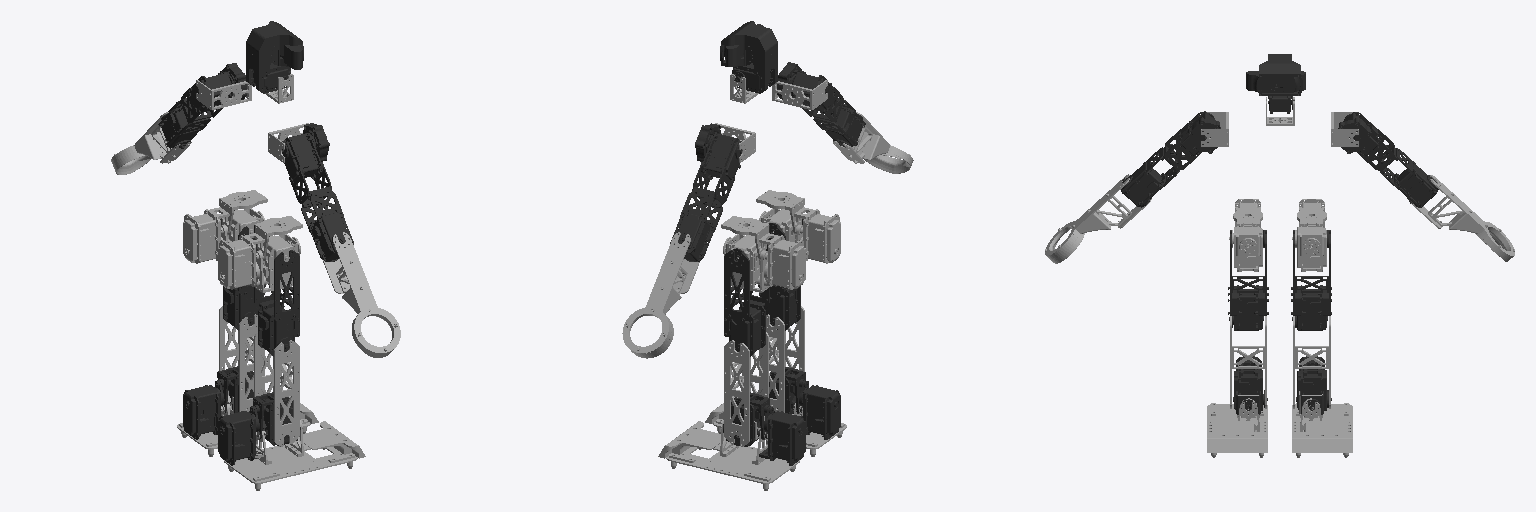
The robot description file, URDF, robot "UMARU":
<?xml version="1.0" ?>
<!-- =================================================================================== -->
<!-- |    This document was autogenerated by xacro from umaru.xacro                    | -->
<!-- |    EDITING THIS FILE BY HAND IS NOT RECOMMENDED                                 | -->
<!-- =================================================================================== -->
<robot name="UMARU">
  <material name="black">
    <color rgba="0.25 0.25 0.25 1"/>
  </material>
  <material name="light_gray">
    <color rgba="0.7 0.7 0.7 1"/>
  </material>
  <material name="green">
    <color rgba="0 1 0 1"/>
  </material>
  <link name="base_link"/>
  <link name="odom">
    <origion rpy="0 0 0" xyz="0 0 0"/>
  </link>
  <joint name="odom_joint" type="fixed">
    <parent link="base_link"/>
    <child link="odom"/>
    <origin rpy="0 0 0" xyz="0 0 0"/>
  </joint>
  <link name="body">
    <visual>
      <geometry>
        <mesh filename="package://shikaku_test/meshes/teen_size/Body.stl" scale="0.001 0.001 0.001"/>
      </geometry>
      <origin rpy="1.5707963267948966 0 0" xyz="0.0 0.0 0.0"/>
      <material name="black"/>
    </visual>
    <collision>
      <geometry>
        <mesh filename="package://shikaku_test/meshes/teen_size/Body.stl" scale="0.001 0.001 0.001"/>
      </geometry>
      <origin rpy="1.5707963267948966 0 0" xyz="0.0 0.0 0.0"/>
    </collision>
  </link>
  <joint name="body_joint" type="revolute">
    <parent link="odom"/>
    <child link="body"/>
    <origin rpy="0 0 0" xyz="0 0 0.55"/>
    <limit effort="1000" lower="0" upper="0" velocity="1"/>
  </joint>
  <link name="neck">
    <visual>
      <geometry>
        <mesh filename="package://shikaku_test/meshes/teen_size/Neck.stl" scale="0.001 0.001 0.001"/>
      </geometry>
      <origin rpy="1.5707963267948966 1.5707963267948966 0" xyz="0.0 -0.0184 -0.013000000000000001"/>
      <material name="light_gray"/>
    </visual>
    <collision>
      <geometry>
        <mesh filename="package://shikaku_test/meshes/teen_size/Neck.stl" scale="0.001 0.001 0.001"/>
      </geometry>
      <origin rpy="1.5707963267948966 1.5707963267948966 0" xyz="0.0 -0.0184 -0.013000000000000001"/>
    </collision>
  </link>
  <link name="head">
    <visual>
      <geometry>
        <mesh filename="package://shikaku_test/meshes/teen_size/Head.stl" scale="0.001 0.001 0.001"/>
      </geometry>
      <origin rpy="0 -1.5707963267948966 0" xyz="0.0 0.0 0.0"/>
      <material name="black"/>
    </visual>
    <collision>
      <geometry>
        <mesh filename="package://shikaku_test/meshes/teen_size/Head.stl" scale="0.001 0.001 0.001"/>
      </geometry>
      <origin rpy="0 -1.5707963267948966 0" xyz="0.0 0.0 0.0"/>
    </collision>
  </link>
  <link name="right_shoulder">
    <visual>
      <geometry>
        <mesh filename="package://shikaku_test/meshes/teen_size/Shoulder.stl" scale="0.001 0.001 0.001"/>
      </geometry>
      <origin rpy="0 1.5707963267948966 1.5707963267948966" xyz="0.0 0.0 0.0"/>
      <material name="light_gray"/>
    </visual>
    <collision>
      <geometry>
        <mesh filename="package://shikaku_test/meshes/teen_size/Shoulder.stl" scale="0.001 0.001 0.001"/>
      </geometry>
      <origin rpy="0 1.5707963267948966 1.5707963267948966" xyz="0.0 0.0 0.0"/>
    </collision>
  </link>
  <link name="right_upper_arm">
    <visual>
      <geometry>
        <mesh filename="package://shikaku_test/meshes/teen_size/Upper_Arm.stl" scale="0.001 0.001 0.001"/>
      </geometry>
      <origin rpy="0 1.5707963267948966 0" xyz="0.0 0.034999999999999996 0.006"/>
      <material name="black"/>
    </visual>
    <collision>
      <geometry>
        <mesh filename="package://shikaku_test/meshes/teen_size/Upper_Arm.stl" scale="0.001 0.001 0.001"/>
      </geometry>
      <origin rpy="0 1.5707963267948966 0" xyz="0.0 0.034999999999999996 0.006"/>
    </collision>
  </link>
  <link name="right_forearm">
    <visual>
      <geometry>
        <mesh filename="package://shikaku_test/meshes/teen_size/Forearm.stl" scale="0.001 0.001 0.001"/>
      </geometry>
      <origin rpy="0 1.5707963267948966 1.5707963267948966" xyz="-0.034999999999999996 0.006 0.16000000000000003"/>
      <material name="light_gray"/>
    </visual>
    <collision>
      <geometry>
        <mesh filename="package://shikaku_test/meshes/teen_size/Forearm.stl" scale="0.001 0.001 0.001"/>
      </geometry>
      <origin rpy="0 1.5707963267948966 1.5707963267948966" xyz="-0.034999999999999996 0.006 0.16000000000000003"/>
    </collision>
  </link>
  <link name="left_shoulder">
    <visual>
      <geometry>
        <mesh filename="package://shikaku_test/meshes/teen_size/Shoulder.stl" scale="0.001 0.001 0.001"/>
      </geometry>
      <origin rpy="0 1.5707963267948966 1.5707963267948966" xyz="0.0 0.0 0.0"/>
      <material name="light_gray"/>
    </visual>
    <collision>
      <geometry>
        <mesh filename="package://shikaku_test/meshes/teen_size/Shoulder.stl" scale="0.001 0.001 0.001"/>
      </geometry>
      <origin rpy="0 1.5707963267948966 1.5707963267948966" xyz="0.0 0.0 0.0"/>
    </collision>
  </link>
  <link name="left_upper_arm">
    <visual>
      <geometry>
        <mesh filename="package://shikaku_test/meshes/teen_size/Upper_Arm.stl" scale="0.001 0.001 0.001"/>
      </geometry>
      <origin rpy="0 1.5707963267948966 0" xyz="0.0 0.034999999999999996 0.006"/>
      <material name="black"/>
    </visual>
    <collision>
      <geometry>
        <mesh filename="package://shikaku_test/meshes/teen_size/Upper_Arm.stl" scale="0.001 0.001 0.001"/>
      </geometry>
      <origin rpy="0 1.5707963267948966 0" xyz="0.0 0.034999999999999996 0.006"/>
    </collision>
  </link>
  <link name="left_forearm">
    <visual>
      <geometry>
        <mesh filename="package://shikaku_test/meshes/teen_size/Forearm.stl" scale="0.001 0.001 0.001"/>
      </geometry>
      <origin rpy="0 1.5707963267948966 1.5707963267948966" xyz="-0.034999999999999996 0.006 0.16000000000000003"/>
      <material name="light_gray"/>
    </visual>
    <collision>
      <geometry>
        <mesh filename="package://shikaku_test/meshes/teen_size/Forearm.stl" scale="0.001 0.001 0.001"/>
      </geometry>
      <origin rpy="0 1.5707963267948966 1.5707963267948966" xyz="-0.034999999999999996 0.006 0.16000000000000003"/>
    </collision>
  </link>
  <link name="right_groin">
    <visual>
      <geometry>
        <mesh filename="package://shikaku_test/meshes/teen_size/Groin.stl" scale="0.001 0.001 0.001"/>
      </geometry>
      <origin rpy="-1.5707963267948966 -1.5707963267948966 0" xyz="-0.083 -0.047 -0.010000000000000002"/>
      <material name="light_gray"/>
    </visual>
    <collision>
      <geometry>
        <mesh filename="package://shikaku_test/meshes/teen_size/Groin.stl" scale="0.001 0.001 0.001"/>
      </geometry>
      <origin rpy="-1.5707963267948966 -1.5707963267948966 0" xyz="-0.083 -0.047 -0.010000000000000002"/>
    </collision>
  </link>
  <link name="right_buttock">
    <visual>
      <geometry>
        <mesh filename="package://shikaku_test/meshes/teen_size/Buttock.stl" scale="0.001 0.001 0.001"/>
      </geometry>
      <origin rpy="-1.5707963267948966 0 0" xyz="-0.036 -0.047 0.046000000000000006"/>
      <material name="light_gray"/>
    </visual>
    <collision>
      <geometry>
        <mesh filename="package://shikaku_test/meshes/teen_size/Buttock.stl" scale="0.001 0.001 0.001"/>
      </geometry>
      <origin rpy="-1.5707963267948966 0 0" xyz="-0.036 -0.047 0.046000000000000006"/>
    </collision>
  </link>
  <link name="right_thigh">
    <visual>
      <geometry>
        <mesh filename="package://shikaku_test/meshes/teen_size/Thigh.stl" scale="0.001 0.001 0.001"/>
      </geometry>
      <origin rpy="-1.5707963267948966 0 0" xyz="0.0 0.008 -0.034999999999999996"/>
      <material name="black"/>
    </visual>
    <collision>
      <geometry>
        <mesh filename="package://shikaku_test/meshes/teen_size/Thigh.stl" scale="0.001 0.001 0.001"/>
      </geometry>
      <origin rpy="-1.5707963267948966 0 0" xyz="0.0 0.008 -0.034999999999999996"/>
    </collision>
  </link>
  <link name="right_calf">
    <visual>
      <geometry>
        <mesh filename="package://shikaku_test/meshes/teen_size/Calf.stl" scale="0.001 0.001 0.001"/>
      </geometry>
      <origin rpy="0 -1.5707963267948966 0" xyz="0.026400000000000003 0.014000000000000002 0.038000000000000006"/>
      <material name="light_gray"/>
    </visual>
    <collision>
      <geometry>
        <mesh filename="package://shikaku_test/meshes/teen_size/Calf.stl" scale="0.001 0.001 0.001"/>
      </geometry>
      <origin rpy="0 -1.5707963267948966 0" xyz="0.026400000000000003 0.014000000000000002 0.038000000000000006"/>
    </collision>
  </link>
  <link name="right_heel">
    <visual>
      <geometry>
        <mesh filename="package://shikaku_test/meshes/teen_size/Heel.stl" scale="0.001 0.001 0.001"/>
      </geometry>
      <origin rpy="1.5707963267948966 0 1.5707963267948966" xyz="-0.0478 -0.0104 -0.0456"/>
      <material name="black"/>
    </visual>
    <collision>
      <geometry>
        <mesh filename="package://shikaku_test/meshes/teen_size/Heel.stl" scale="0.001 0.001 0.001"/>
      </geometry>
      <origin rpy="1.5707963267948966 0 1.5707963267948966" xyz="-0.0478 -0.0104 -0.0456"/>
    </collision>
  </link>
  <link name="right_foot">
    <visual>
      <geometry>
        <mesh filename="package://shikaku_test/meshes/teen_size/Right_Foot.stl" scale="0.001 0.001 0.001"/>
      </geometry>
      <origin rpy="1.5707963267948966 0 3.141592653589793" xyz="0.010000000000000002 -0.0478 -0.0456"/>
      <material name="light_gray"/>
    </visual>
    <collision>
      <geometry>
        <mesh filename="package://shikaku_test/meshes/teen_size/Right_Foot.stl" scale="0.001 0.001 0.001"/>
      </geometry>
      <origin rpy="1.5707963267948966 0 3.141592653589793" xyz="0.010000000000000002 -0.0478 -0.0456"/>
    </collision>
  </link>
  <link name="left_groin">
    <visual>
      <geometry>
        <mesh filename="package://shikaku_test/meshes/teen_size/Groin.stl" scale="0.001 0.001 0.001"/>
      </geometry>
      <origin rpy="-1.5707963267948966 -1.5707963267948966 0" xyz="-0.083 -0.047 -0.010000000000000002"/>
      <material name="light_gray"/>
    </visual>
    <collision>
      <geometry>
        <mesh filename="package://shikaku_test/meshes/teen_size/Groin.stl" scale="0.001 0.001 0.001"/>
      </geometry>
      <origin rpy="-1.5707963267948966 -1.5707963267948966 0" xyz="-0.083 -0.047 -0.010000000000000002"/>
    </collision>
  </link>
  <link name="left_buttock">
    <visual>
      <geometry>
        <mesh filename="package://shikaku_test/meshes/teen_size/Buttock.stl" scale="0.001 0.001 0.001"/>
      </geometry>
      <origin rpy="-1.5707963267948966 0 0" xyz="-0.036 -0.047 0.046000000000000006"/>
      <material name="light_gray"/>
    </visual>
    <collision>
      <geometry>
        <mesh filename="package://shikaku_test/meshes/teen_size/Buttock.stl" scale="0.001 0.001 0.001"/>
      </geometry>
      <origin rpy="-1.5707963267948966 0 0" xyz="-0.036 -0.047 0.046000000000000006"/>
    </collision>
  </link>
  <link name="left_thigh">
    <visual>
      <geometry>
        <mesh filename="package://shikaku_test/meshes/teen_size/Thigh.stl" scale="0.001 0.001 0.001"/>
      </geometry>
      <origin rpy="-1.5707963267948966 0 3.141592653589793" xyz="0.0 -0.008 -0.034999999999999996"/>
      <material name="black"/>
    </visual>
    <collision>
      <geometry>
        <mesh filename="package://shikaku_test/meshes/teen_size/Thigh.stl" scale="0.001 0.001 0.001"/>
      </geometry>
      <origin rpy="-1.5707963267948966 0 3.141592653589793" xyz="0.0 -0.008 -0.034999999999999996"/>
    </collision>
  </link>
  <link name="left_calf">
    <visual>
      <geometry>
        <mesh filename="package://shikaku_test/meshes/teen_size/Calf.stl" scale="0.001 0.001 0.001"/>
      </geometry>
      <origin rpy="0 -1.5707963267948966 3.141592653589793" xyz="-0.026400000000000003 -0.014000000000000002 0.038000000000000006"/>
      <material name="light_gray"/>
    </visual>
    <collision>
      <geometry>
        <mesh filename="package://shikaku_test/meshes/teen_size/Calf.stl" scale="0.001 0.001 0.001"/>
      </geometry>
      <origin rpy="0 -1.5707963267948966 3.141592653589793" xyz="-0.026400000000000003 -0.014000000000000002 0.038000000000000006"/>
    </collision>
  </link>
  <link name="left_heel">
    <visual>
      <geometry>
        <mesh filename="package://shikaku_test/meshes/teen_size/Heel.stl" scale="0.001 0.001 0.001"/>
      </geometry>
      <origin rpy="1.5707963267948966 0 -1.5707963267948966" xyz="0.0478 0.0104 -0.0456"/>
      <material name="black"/>
    </visual>
    <collision>
      <geometry>
        <mesh filename="package://shikaku_test/meshes/teen_size/Heel.stl" scale="0.001 0.001 0.001"/>
      </geometry>
      <origin rpy="1.5707963267948966 0 -1.5707963267948966" xyz="0.0478 0.0104 -0.0456"/>
    </collision>
  </link>
  <link name="left_foot">
    <visual>
      <geometry>
        <mesh filename="package://shikaku_test/meshes/teen_size/Left_Foot.stl" scale="0.001 0.001 0.001"/>
      </geometry>
      <origin rpy="1.5707963267948966 0 3.141592653589793" xyz="0.010000000000000002 0.0478 -0.0456"/>
      <material name="light_gray"/>
    </visual>
    <collision>
      <geometry>
        <mesh filename="package://shikaku_test/meshes/teen_size/Left_Foot.stl" scale="0.001 0.001 0.001"/>
      </geometry>
      <origin rpy="1.5707963267948966 0 3.141592653589793" xyz="0.010000000000000002 0.0478 -0.0456"/>
    </collision>
  </link>
  <joint name="right_shoulder_pitch" type="revolute">
    <parent link="body"/>
    <child link="right_shoulder"/>
    <origin rpy="0 0 -1.5707963267948966" xyz="-0.0478 -0.0842 0.015"/>
    <limit effort="1000" lower="-3.141592653589793" upper="3.141592653589793" velocity="1"/>
  </joint>
  <joint name="left_shoulder_pitch" type="revolute">
    <parent link="body"/>
    <child link="left_shoulder"/>
    <origin rpy="0 0 1.5707963267948966" xyz="-0.0478 0.0842 0.015"/>
    <limit effort="1000" lower="-3.141592653589793" upper="3.141592653589793" velocity="1"/>
  </joint>
  <joint name="right_shoulder_roll" type="revolute">
    <parent link="right_shoulder"/>
    <child link="right_upper_arm"/>
    <origin rpy="-0.7853981633974483 0 1.5707963267948966" xyz="0.03 0.0 0.0"/>
    <limit effort="1000" lower="-2.356194490192345" upper="0.7853981633974483" velocity="1"/>
  </joint>
  <joint name="left_shoulder_roll" type="revolute">
    <parent link="left_shoulder"/>
    <child link="left_upper_arm"/>
    <origin rpy="0.7853981633974483 0 -1.5707963267948966" xyz="0.03 0.0 0.0"/>
    <limit effort="1000" lower="-0.7853981633974483" upper="2.356194490192345" velocity="1"/>
  </joint>
  <joint name="right_elbow" type="revolute">
    <parent link="right_upper_arm"/>
    <child link="right_forearm"/>
    <origin rpy="0 0 -1.5707963267948966" xyz="-0.006500000000000001 0.0 -0.15500000000000003"/>
    <limit effort="1000" lower="-2.356194490192345" upper="2.356194490192345" velocity="1"/>
  </joint>
  <joint name="left_elbow" type="revolute">
    <parent link="left_upper_arm"/>
    <child link="left_forearm"/>
    <origin rpy="0 0 1.5707963267948966" xyz="-0.006500000000000001 0.0 -0.15500000000000003"/>
    <limit effort="1000" lower="-2.356194490192345" upper="2.356194490192345" velocity="1"/>
  </joint>
  <joint name="right_hip_yaw" type="revolute">
    <parent link="body"/>
    <child link="right_groin"/>
    <origin rpy="0 -1.5707963267948966 0" xyz="-0.0476 -0.0495 -0.136"/>
    <limit effort="1000" lower="-1.5707963267948966" upper="0.7853981633974483" velocity="1"/>
  </joint>
  <joint name="left_hip_yaw" type="revolute">
    <parent link="body"/>
    <child link="left_groin"/>
    <origin rpy="0 -1.5707963267948966 0" xyz="-0.0476 0.0495 -0.136"/>
    <limit effort="1000" lower="-0.7853981633974483" upper="1.5707963267948966" velocity="1"/>
  </joint>
  <joint name="right_hip_roll" type="revolute">
    <parent link="right_groin"/>
    <child link="right_buttock"/>
    <origin rpy="0 -1.5707963267948966 0" xyz="-0.037 0.0 0.027000000000000003"/>
    <limit effort="1000" lower="-0.7853981633974483" upper="1.5707963267948966" velocity="1"/>
  </joint>
  <joint name="left_hip_roll" type="revolute">
    <parent link="left_groin"/>
    <child link="left_buttock"/>
    <origin rpy="0 -1.5707963267948966 0" xyz="-0.037 0.0 0.027000000000000003"/>
    <limit effort="1000" lower="-1.5707963267948966" upper="0.7853981633974483" velocity="1"/>
  </joint>
  <joint name="right_hip_pitch" type="revolute">
    <parent link="right_buttock"/>
    <child link="right_thigh"/>
    <origin rpy="0 0 1.5707963267948966" xyz="-0.025500000000000002 0.0 0.0005"/>
    <limit effort="1000" lower="-1.9634954084936207" upper="1.1780972450961724" velocity="1"/>
  </joint>
  <joint name="left_hip_pitch" type="revolute">
    <parent link="left_buttock"/>
    <child link="left_thigh"/>
    <origin rpy="0 0 -1.5707963267948966" xyz="-0.025500000000000002 0.0 0.0005"/>
    <limit effort="1000" lower="-1.1780972450961724" upper="1.9634954084936207" velocity="1"/>
  </joint>
  <joint name="right_knee" type="revolute">
    <parent link="right_thigh"/>
    <child link="right_calf"/>
    <origin rpy="0 0 0" xyz="0.0 0.0 0.13799999999999998"/>
    <limit effort="1000" lower="-2.356194490192345" upper="2.356194490192345" velocity="1"/>
  </joint>
  <joint name="left_knee" type="revolute">
    <parent link="left_thigh"/>
    <child link="left_calf"/>
    <origin rpy="0 0 0" xyz="0.0 0.0 0.13799999999999998"/>
    <limit effort="1000" lower="-0.7853981633974483" upper="0.7853981633974483" velocity="1"/>
  </joint>
  <joint name="right_ankle_pitch" type="revolute">
    <parent link="right_calf"/>
    <child link="right_heel"/>
    <origin rpy="0 0 3.141592653589793" xyz="0.0 0.0 0.13799999999999998"/>
    <limit effort="1000" lower="-0.7853981633974483" upper="0.7853981633974483" velocity="1"/>
  </joint>
  <joint name="left_ankle_pitch" type="revolute">
    <parent link="left_calf"/>
    <child link="left_heel"/>
    <origin rpy="0 0 3.141592653589793" xyz="0.0 0.0 0.13799999999999998"/>
    <limit effort="1000" lower="-2.356194490192345" upper="2.356194490192345" velocity="1"/>
  </joint>
  <joint name="right_ankle_roll" type="revolute">
    <parent link="right_heel"/>
    <child link="right_foot"/>
    <origin rpy="0 0 -1.5707963267948966" xyz="0.0 0.0 0.0"/>
    <limit effort="1000" lower="-0.7853981633974483" upper="0.7853981633974483" velocity="1"/>
  </joint>
  <joint name="left_ankle_roll" type="revolute">
    <parent link="left_heel"/>
    <child link="left_foot"/>
    <origin rpy="0 0 1.5707963267948966" xyz="0.0 0.0 0.0"/>
    <limit effort="1000" lower="-0.7853981633974483" upper="0.7853981633974483" velocity="1"/>
  </joint>
  <joint name="neck_yaw" type="revolute">
    <parent link="body"/>
    <child link="neck"/>
    <origin rpy="0 -1.5707963267948966 0" xyz="-0.0184 0.0 0.04000000000000001"/>
    <limit effort="1000" lower="-3.141592653589793" upper="3.141592653589793" velocity="1"/>
  </joint>
  <joint name="neck_pitch" type="revolute">
    <parent link="neck"/>
    <child link="head"/>
    <origin rpy="1.5707963267948966 3.141592653589793 1.5707963267948966" xyz="0.034999999999999996 0.0 0.0"/>
    <limit effort="1000" lower="-1.5707963267948966" upper="0.39269908169872414" velocity="1"/>
  </joint>
  <link name="camera">
    <origion rpy="0 0 0" xyz="0 0 0"/>
  </link>
  <joint name="camera_joint" type="revolute">
    <parent link="head"/>
    <child link="camera"/>
    <origin rpy="-1.5707963267948966 3.141592653589793 0" xyz="0.0 0.020000000000000004 0.04000000000000001"/>
    <limit effort="1000" lower="0" upper="0" velocity="1"/>
  </joint>
  <link name="right_foot_frame">
    <origion rpy="0 0 0" xyz="0 0 0"/>
  </link>
  <joint name="right_foot_joint" type="revolute">
    <parent link="right_foot"/>
    <child link="right_foot_frame"/>
    <origin rpy="0 0 0" xyz="0.0 0.0 0.04000000000000001"/>
    <limit effort="1000" lower="0" upper="0" velocity="1"/>
  </joint>
  <link name="left_foot_frame">
    <origion rpy="0 0 0" xyz="0 0 0"/>
  </link>
  <joint name="left_foot_joint" type="revolute">
    <parent link="left_foot"/>
    <child link="left_foot_frame"/>
    <origin rpy="0 0 0" xyz="0.0 0.0 0.04000000000000001"/>
    <limit effort="1000" lower="0" upper="0" velocity="1"/>
  </joint>
</robot>

--- Facts derived from the render (not from the file) ---
The picture shows the robot from 3 angles, left to right: view 1: azimuth 30°, elevation 25°; view 2: azimuth 150°, elevation 25°; view 3: azimuth 270°, elevation 25°; orthographic projection.
Robot: UMARU — 26 links, 25 joints (24 revolute, 1 fixed); root link base_link; default pose: every joint at zero.
Links seen in each view (by area): view 1: right_upper_arm, right_foot, right_forearm, right_buttock, right_thigh, head, right_calf, right_heel, left_upper_arm, left_buttock, left_heel, left_calf (+7 smaller); view 2: left_upper_arm, left_foot, left_forearm, left_thigh, left_buttock, head, left_calf, left_heel, right_upper_arm, right_heel, right_buttock, right_calf (+7 smaller); view 3: right_upper_arm, left_upper_arm, left_foot, right_foot, head, right_forearm, left_forearm, left_thigh, right_thigh, left_buttock, right_buttock, right_heel (+5 smaller).
Boxes of the visible links, box(x1,y1,x2,y2) form: right_upper_arm: box(282, 123, 353, 261); right_foot: box(224, 420, 365, 490); right_forearm: box(322, 232, 400, 357); right_buttock: box(218, 233, 300, 292); right_thigh: box(254, 236, 299, 356); head: box(246, 21, 303, 93); right_calf: box(254, 332, 299, 446); right_heel: box(218, 392, 300, 465); left_upper_arm: box(158, 63, 246, 148); left_buttock: box(183, 207, 264, 263); left_heel: box(183, 366, 253, 439); left_calf: box(219, 306, 264, 411); left_upper_arm: box(670, 123, 741, 261); left_foot: box(658, 416, 799, 490); left_forearm: box(622, 232, 699, 358); left_thigh: box(724, 244, 769, 356); left_buttock: box(723, 233, 805, 292); head: box(720, 21, 777, 93); left_calf: box(724, 332, 768, 446); left_heel: box(723, 392, 805, 465); right_upper_arm: box(777, 62, 865, 146); right_heel: box(769, 367, 840, 439); right_buttock: box(759, 207, 840, 263); right_calf: box(759, 306, 804, 412); right_upper_arm: box(1121, 111, 1220, 207); left_upper_arm: box(1338, 112, 1438, 207); left_foot: box(1292, 391, 1352, 457); right_foot: box(1207, 395, 1267, 457); head: box(1246, 54, 1305, 113); right_forearm: box(1045, 174, 1151, 263); left_forearm: box(1411, 175, 1514, 261); left_thigh: box(1291, 230, 1331, 330); right_thigh: box(1228, 230, 1268, 330); left_buttock: box(1292, 199, 1326, 271); right_buttock: box(1229, 199, 1262, 271); right_heel: box(1233, 356, 1267, 414).
Bounding box of the posed robot: 0.1968 × 0.7334 × 0.6515 m (x, y, z).
20 mesh visuals loaded from 13 distinct referenced files (12 binary STL); not drawn: 1 (reference not matched to a file when rendering).
